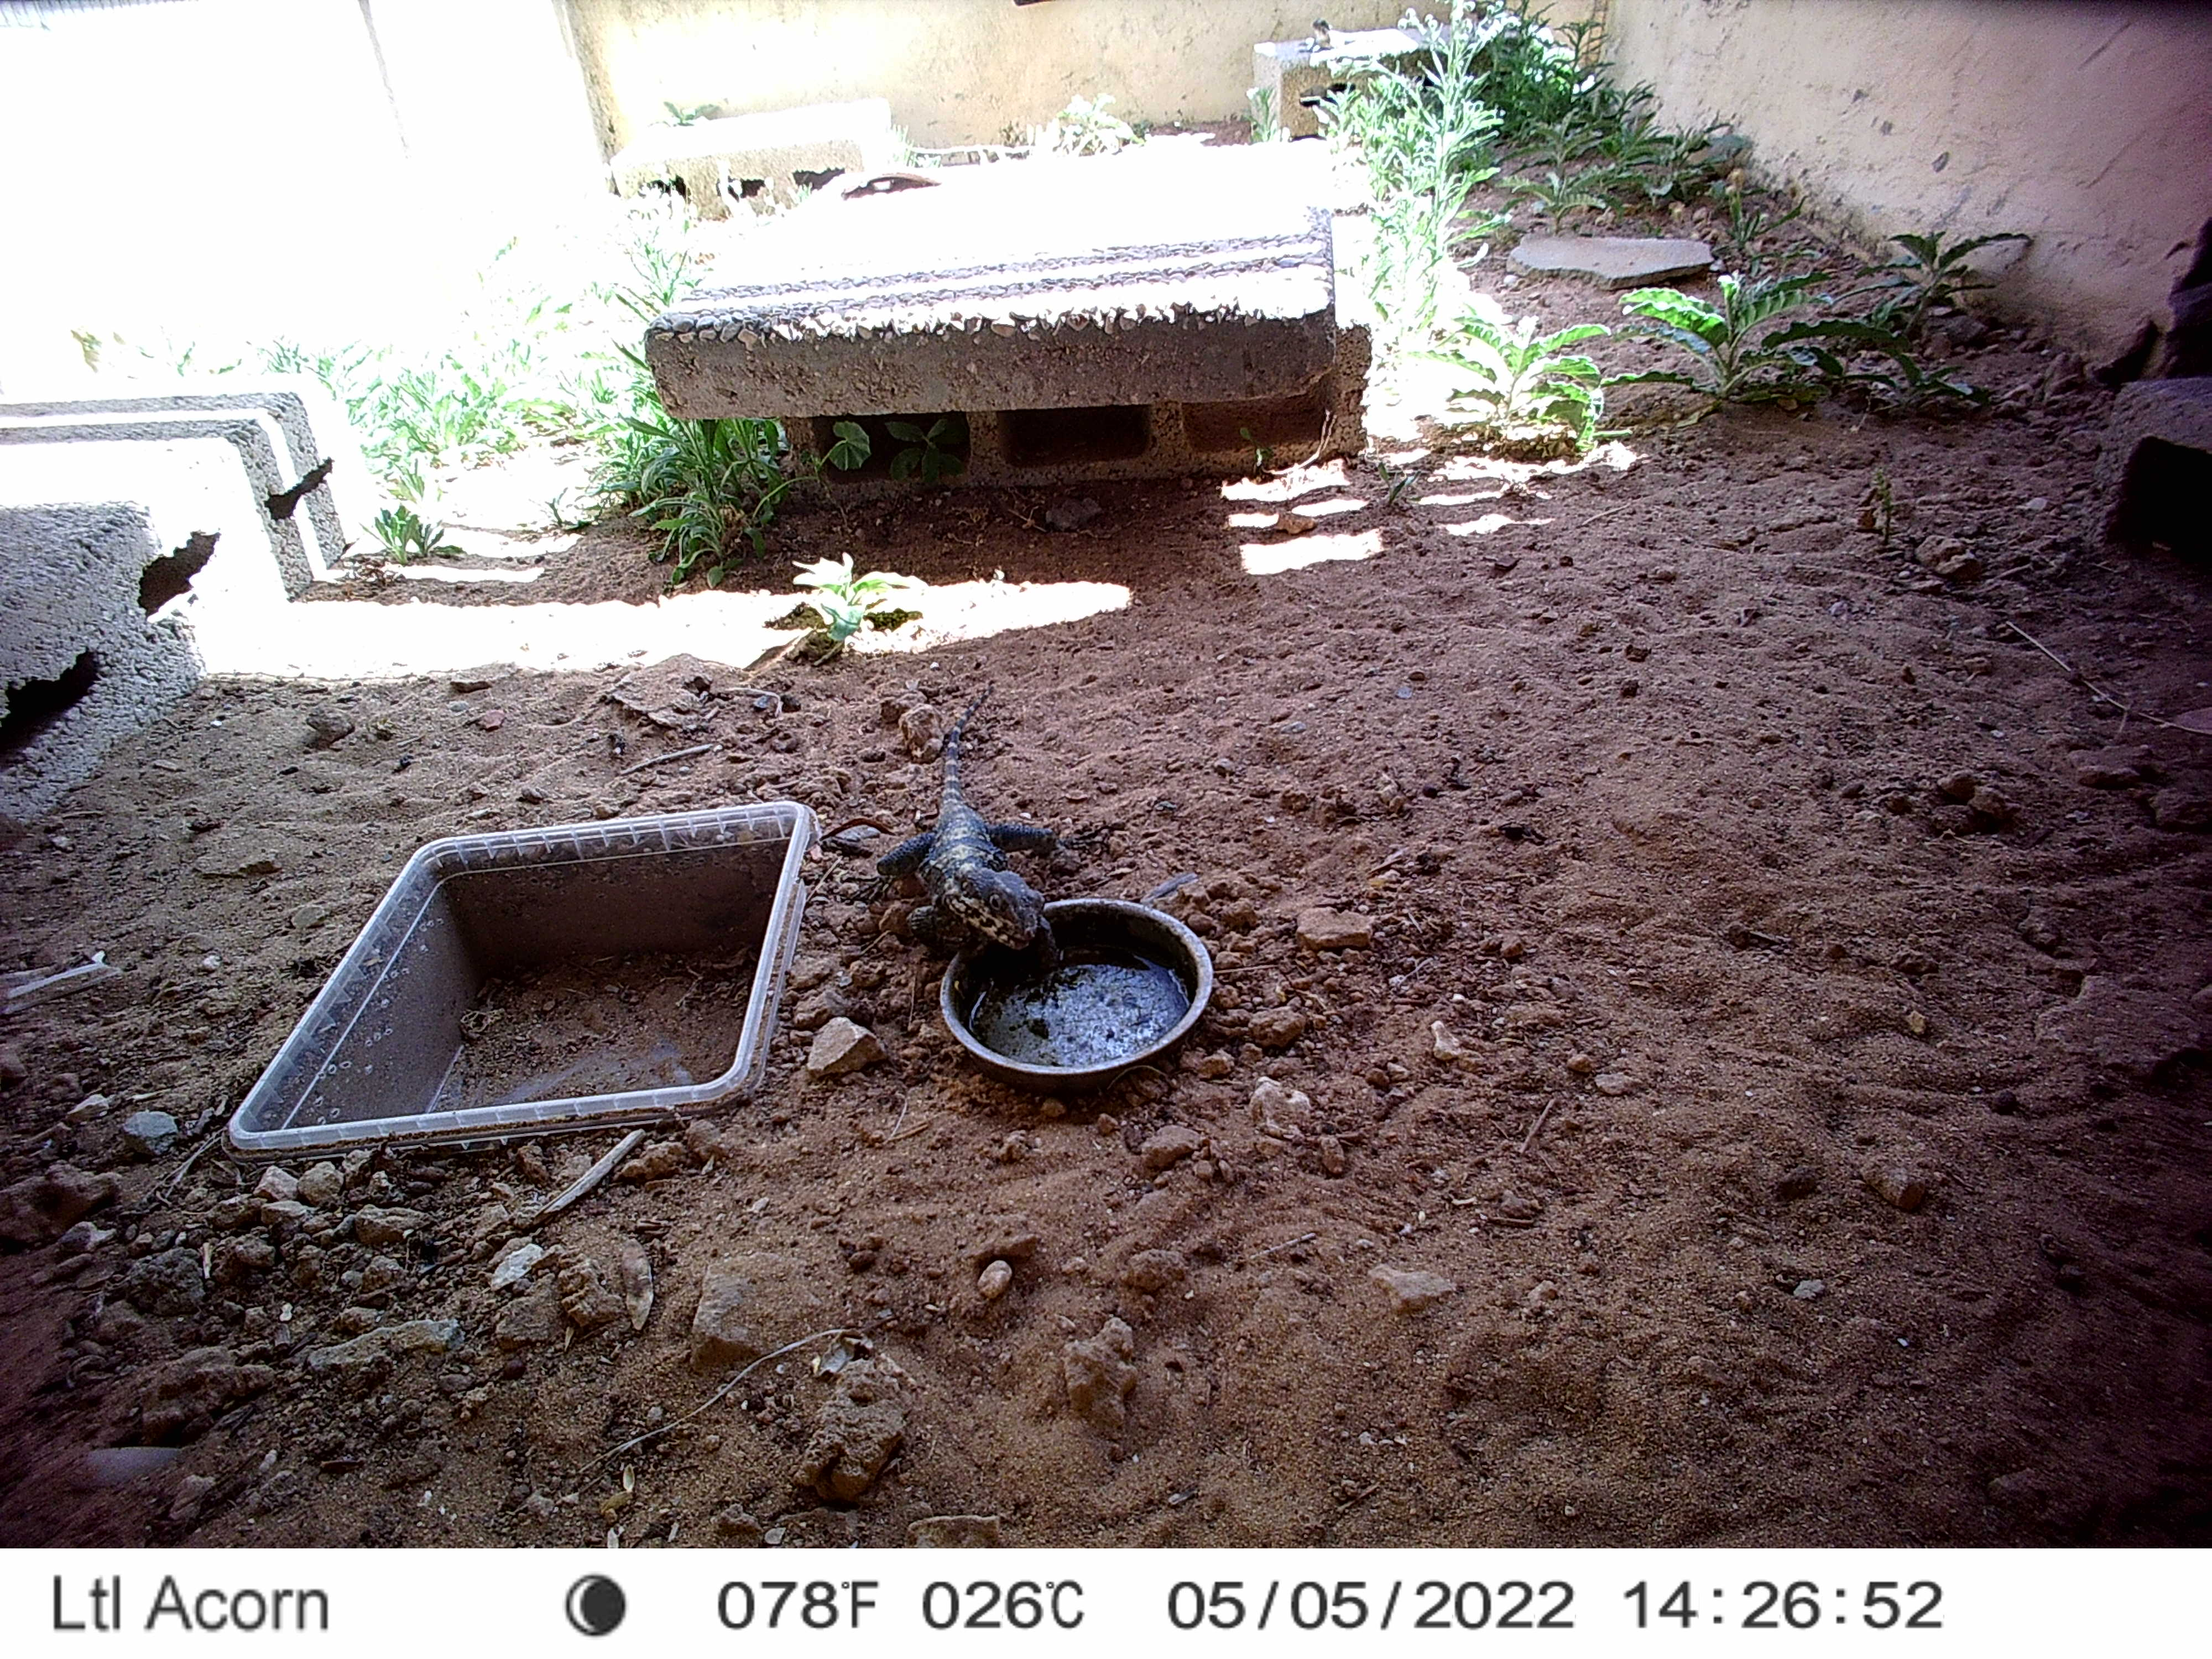lizard: (867, 688, 1087, 962), (1292, 17, 1359, 58)
